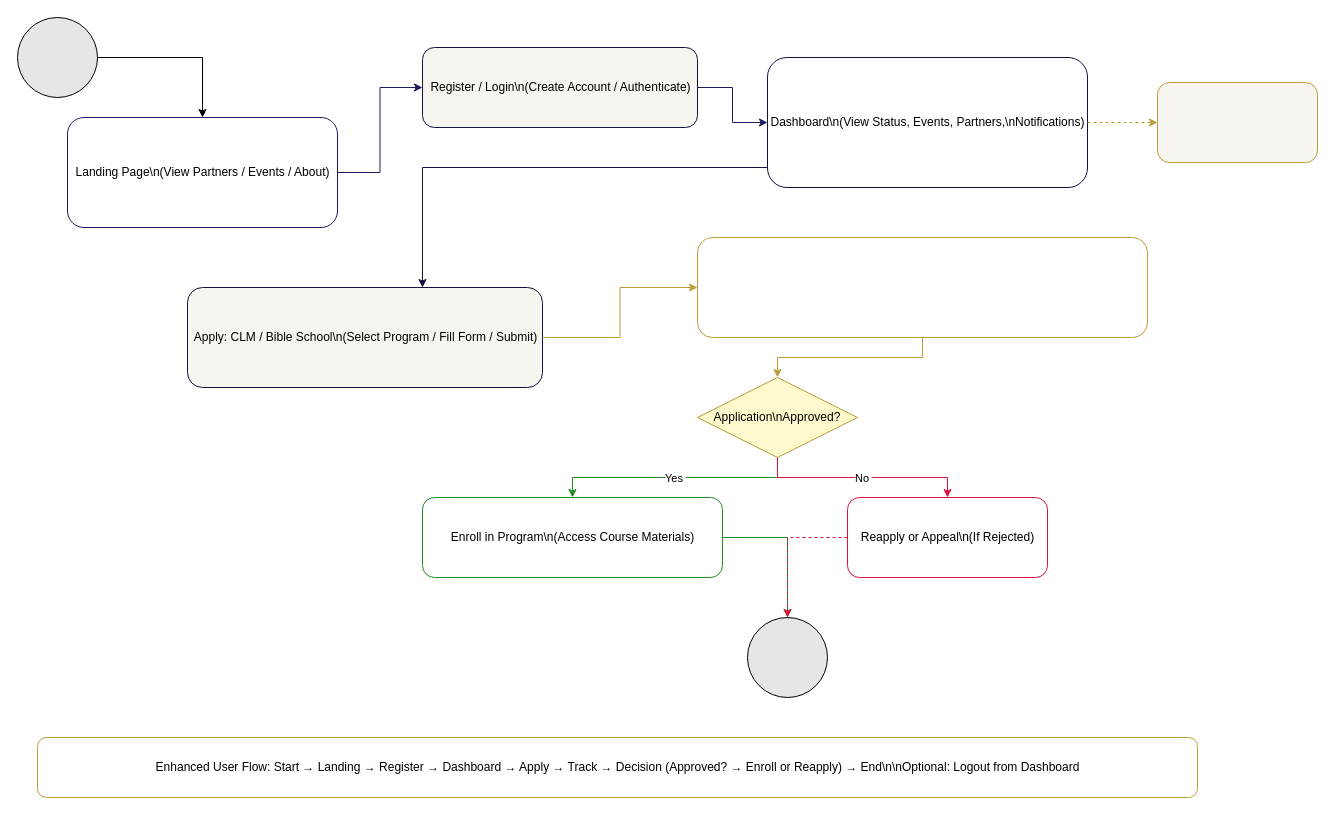
The diagram is 1335 pixels wide and 815 high, and some of its shapes have lost their labels. Here are the shapes that lost their labels. From the top down, the box of each, then its label:
(16, 16, 98, 98): Start
(1156, 82, 1318, 162): Logout\n(End Session)
(696, 236, 1148, 338): Track Application\n(View Status: Pending/Approved/Rejected\n/ Receive Updates)
(746, 616, 828, 698): End
